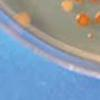orange: (15, 11, 32, 25), (76, 11, 90, 26), (61, 0, 73, 11), (93, 11, 100, 24), (89, 0, 100, 7), (74, 0, 85, 5)
